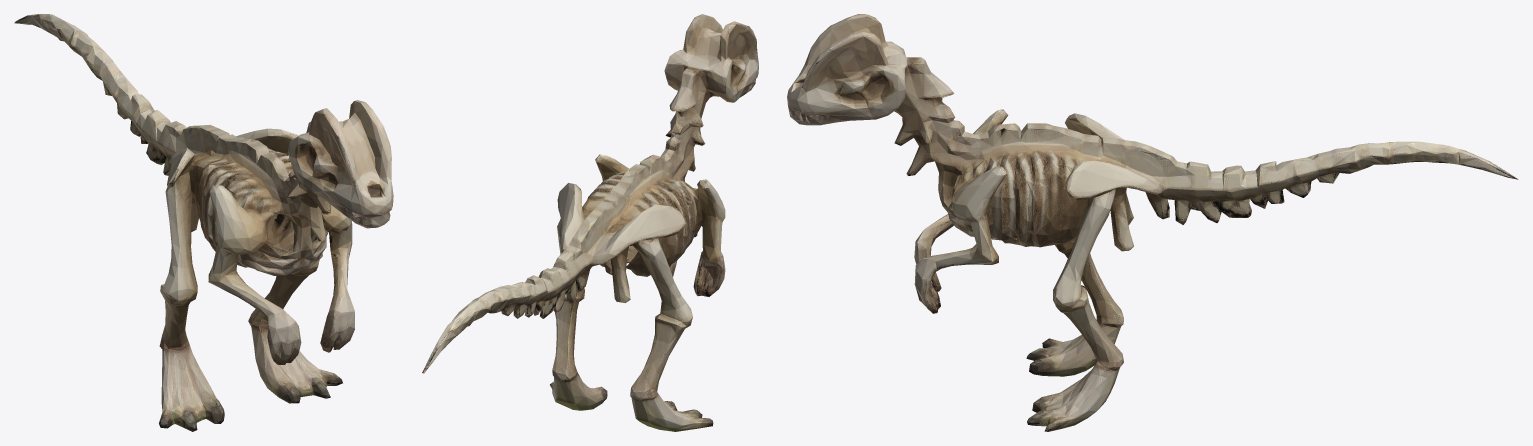
Rendered from dilophosaurus-skjelett.glb.
3 views of the same model, side by side, from view 1: azimuth 30°, elevation 25°; view 2: azimuth 150°, elevation 25°; view 3: azimuth 270°, elevation 25° (orthographic). The views are drawn at different scales.
Visible parts, largest first — view 1: geometry_0; view 2: geometry_0; view 3: geometry_0.
Boxes of the visible parts, x1,y1,x2,y2 form: geometry_0: (14, 14, 393, 431); geometry_0: (422, 14, 758, 431); geometry_0: (787, 14, 1518, 431).
Size of the model in its own units: 0.2875 by 0.5554 by 0.9963.
1 material, 1 textured.
